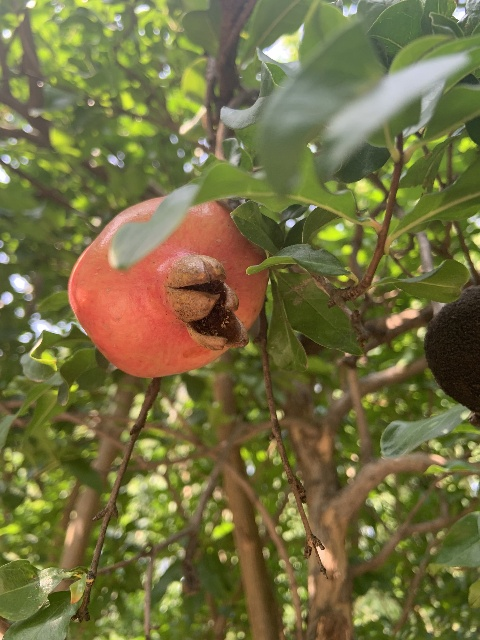ripe: (67, 195, 270, 377)
